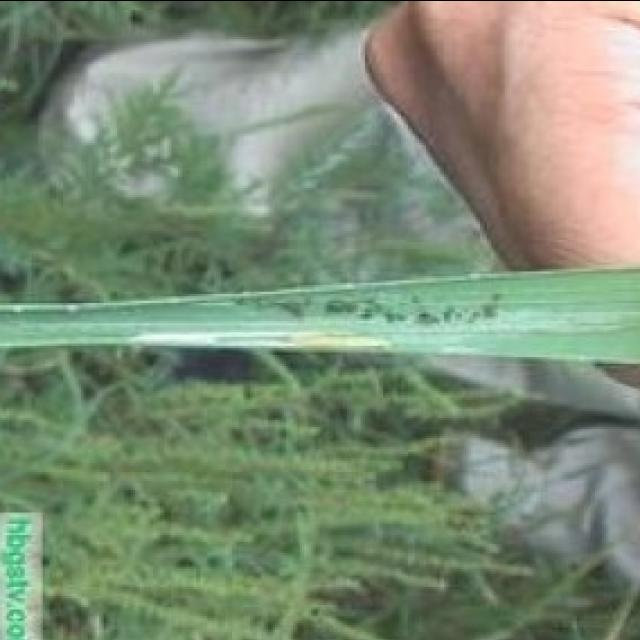rice leaf roller: (237, 284, 629, 331)
